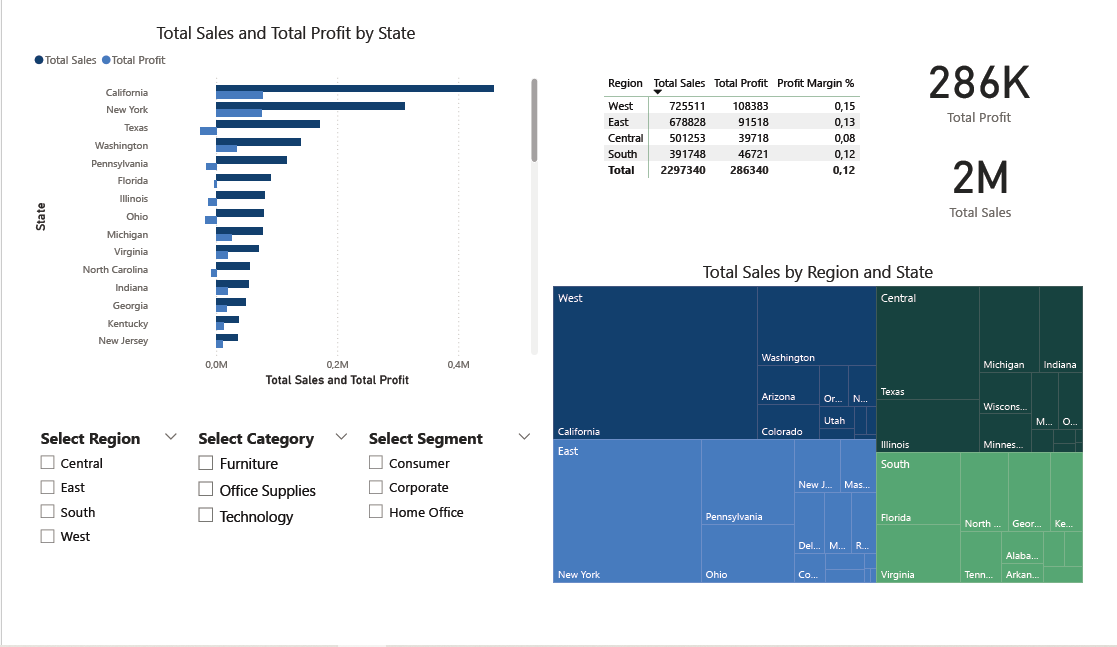

Layout of this report page (visuals, bound fields, positions):
{"tool":"powerbi","page":{"name":"RegionalAnalysis","canvas":[1280,720],"ordinal":2},"visuals":[{"type":"clusteredBarChart","fields":{"Y":["DateTable .Total Sales","DateTable .Total Profit"],"Category":["Orders.State"]},"box":[9.2,0,609.5,441.4],"z":0},{"type":"slicer","fields":{"Values":["Orders.Category"]},"box":[197.3,479.5,203,164.2],"z":1000},{"type":"treemap","title":"Total Sales by Region and State","fields":{"Group":["Orders.Region"],"Details":["Orders.State"],"Values":["DateTable .Total Sales"]},"box":[627.8,285.1,639.4,388.8],"z":2000},{"type":"slicer","fields":{"Values":["Orders.Region"]},"box":[8.6,479.5,188.6,177.1],"z":3000},{"type":"pivotTable","fields":{"Values":["DateTable .Total Sales","DateTable .Total Profit","DateTable .Profit Margin %"],"Rows":["Orders.Region"]},"box":[688.3,59,326.9,151.2],"z":4000},{"type":"card","fields":{"Values":["DateTable .Total Profit"]},"box":[1064.2,18.7,151.2,116.6],"z":5000},{"type":"slicer","fields":{"Values":["Orders.Segment"]},"box":[400,480,218,164],"z":5001},{"type":"card","fields":{"Values":["DateTable .Total Sales"]},"box":[1067,135.4,148.3,109.4],"z":5002}]}

Visuals, with their boxes in screenshot pixels (x1, y1, x2, y2), scaled from the page's 1280x720 canvas onto the 1117x647 screenshot:
clusteredBarChart - DateTable .Total Sales x DateTable .Total Profit: x1=8 y1=0 x2=540 y2=397
slicer - Orders.Category: x1=172 y1=431 x2=349 y2=578
"Total Sales by Region and State" treemap: x1=548 y1=256 x2=1106 y2=606
slicer - Orders.Region: x1=8 y1=431 x2=172 y2=590
pivotTable - DateTable .Total Sales x DateTable .Total Profit: x1=601 y1=53 x2=886 y2=189
card - DateTable .Total Profit: x1=929 y1=17 x2=1061 y2=122
slicer - Orders.Segment: x1=349 y1=431 x2=539 y2=579
card - DateTable .Total Sales: x1=931 y1=122 x2=1061 y2=220
